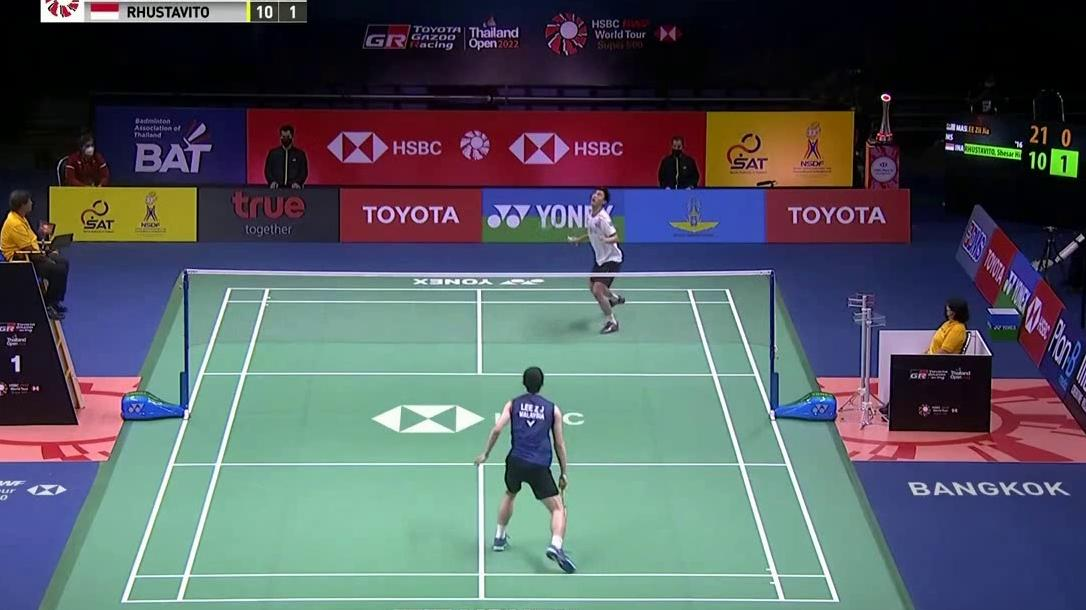racket: (538, 219, 581, 244), (559, 474, 567, 528)
